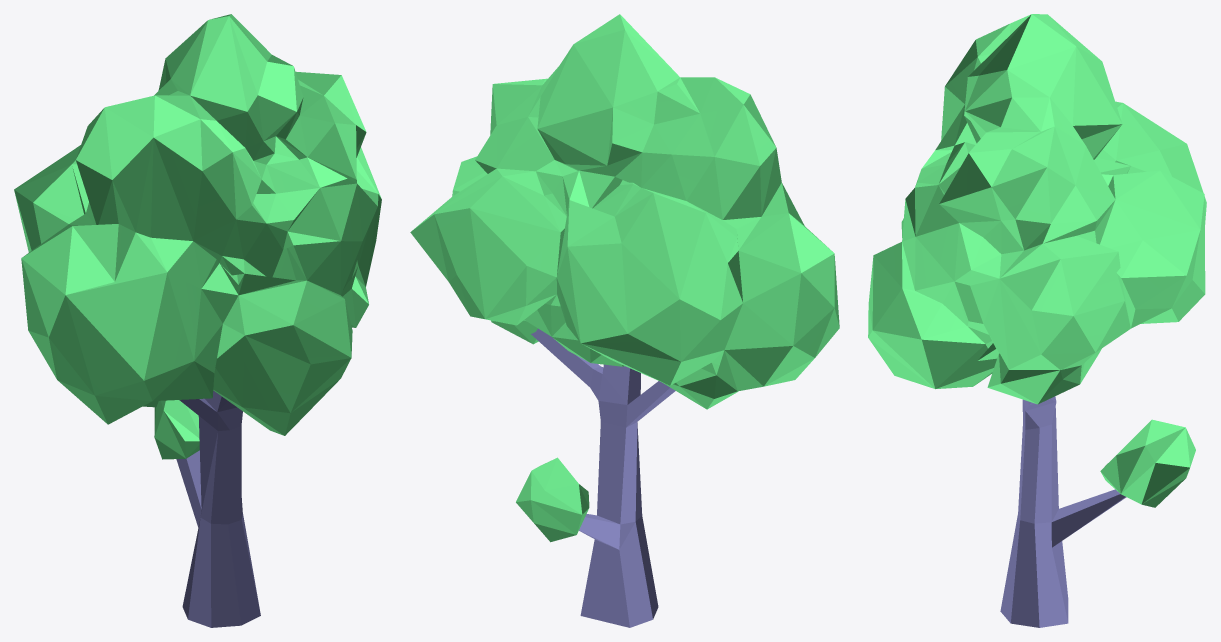
Rendered from SM_Tree_09.fbx.
3 views of the same model, side by side, from view 1: azimuth 30°, elevation 25°; view 2: azimuth 150°, elevation 25°; view 3: azimuth 270°, elevation 25° (orthographic).
Parts seen in each view (by area): view 1: _4_tree; view 2: _4_tree; view 3: _4_tree.
Part boxes in pixels (bbox=[...]): _4_tree: bbox=[14, 14, 381, 627]; _4_tree: bbox=[410, 14, 839, 627]; _4_tree: bbox=[868, 14, 1206, 627].
Bounding box in the file's own units: 347 × 564 × 289.
